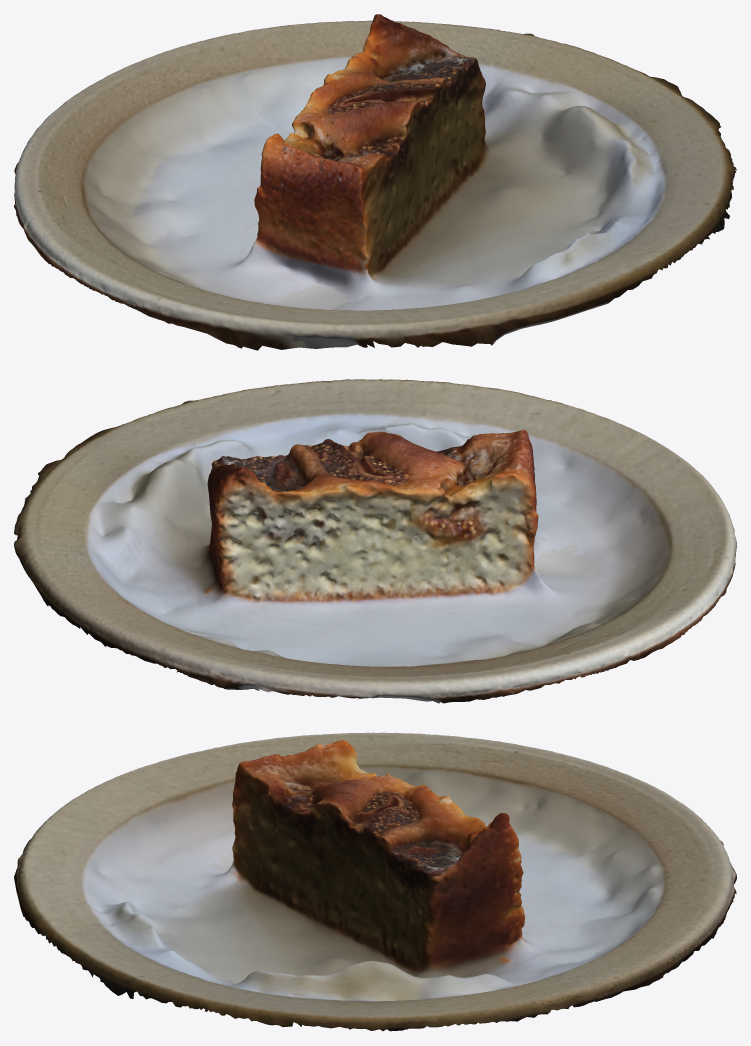
File: incirli_kek.glb
3 views of the same model, one above another, from view 1: azimuth 30°, elevation 25°; view 2: azimuth 150°, elevation 25°; view 3: azimuth 270°, elevation 25° (orthographic).
Visible parts, largest first — view 1: Object_2, Object_3; view 2: Object_2, Object_3; view 3: Object_2.
Part boxes in pixels (x1,y1,x2,y2): Object_2: (14, 14, 736, 350); Object_3: (273, 284, 351, 309); Object_2: (14, 379, 736, 703); Object_3: (534, 544, 602, 577); Object_2: (14, 732, 736, 1031).
Bounding box in the file's own units: 0.3701 × 0.0815 × 0.3683.
2 materials, 1 textured.
